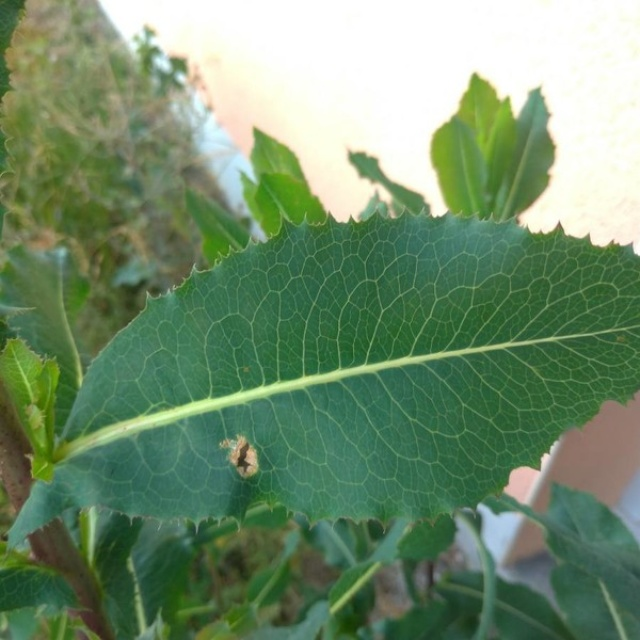obstacle: (78, 195, 606, 545)
